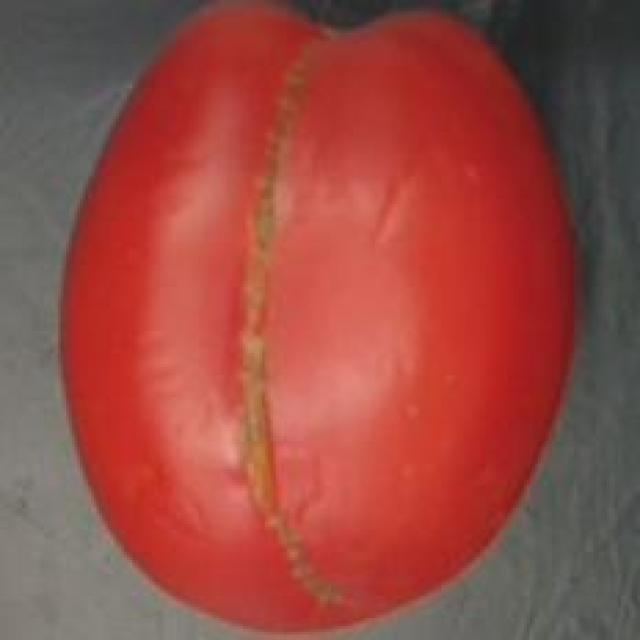overripe tomato: (50, 0, 593, 640)
